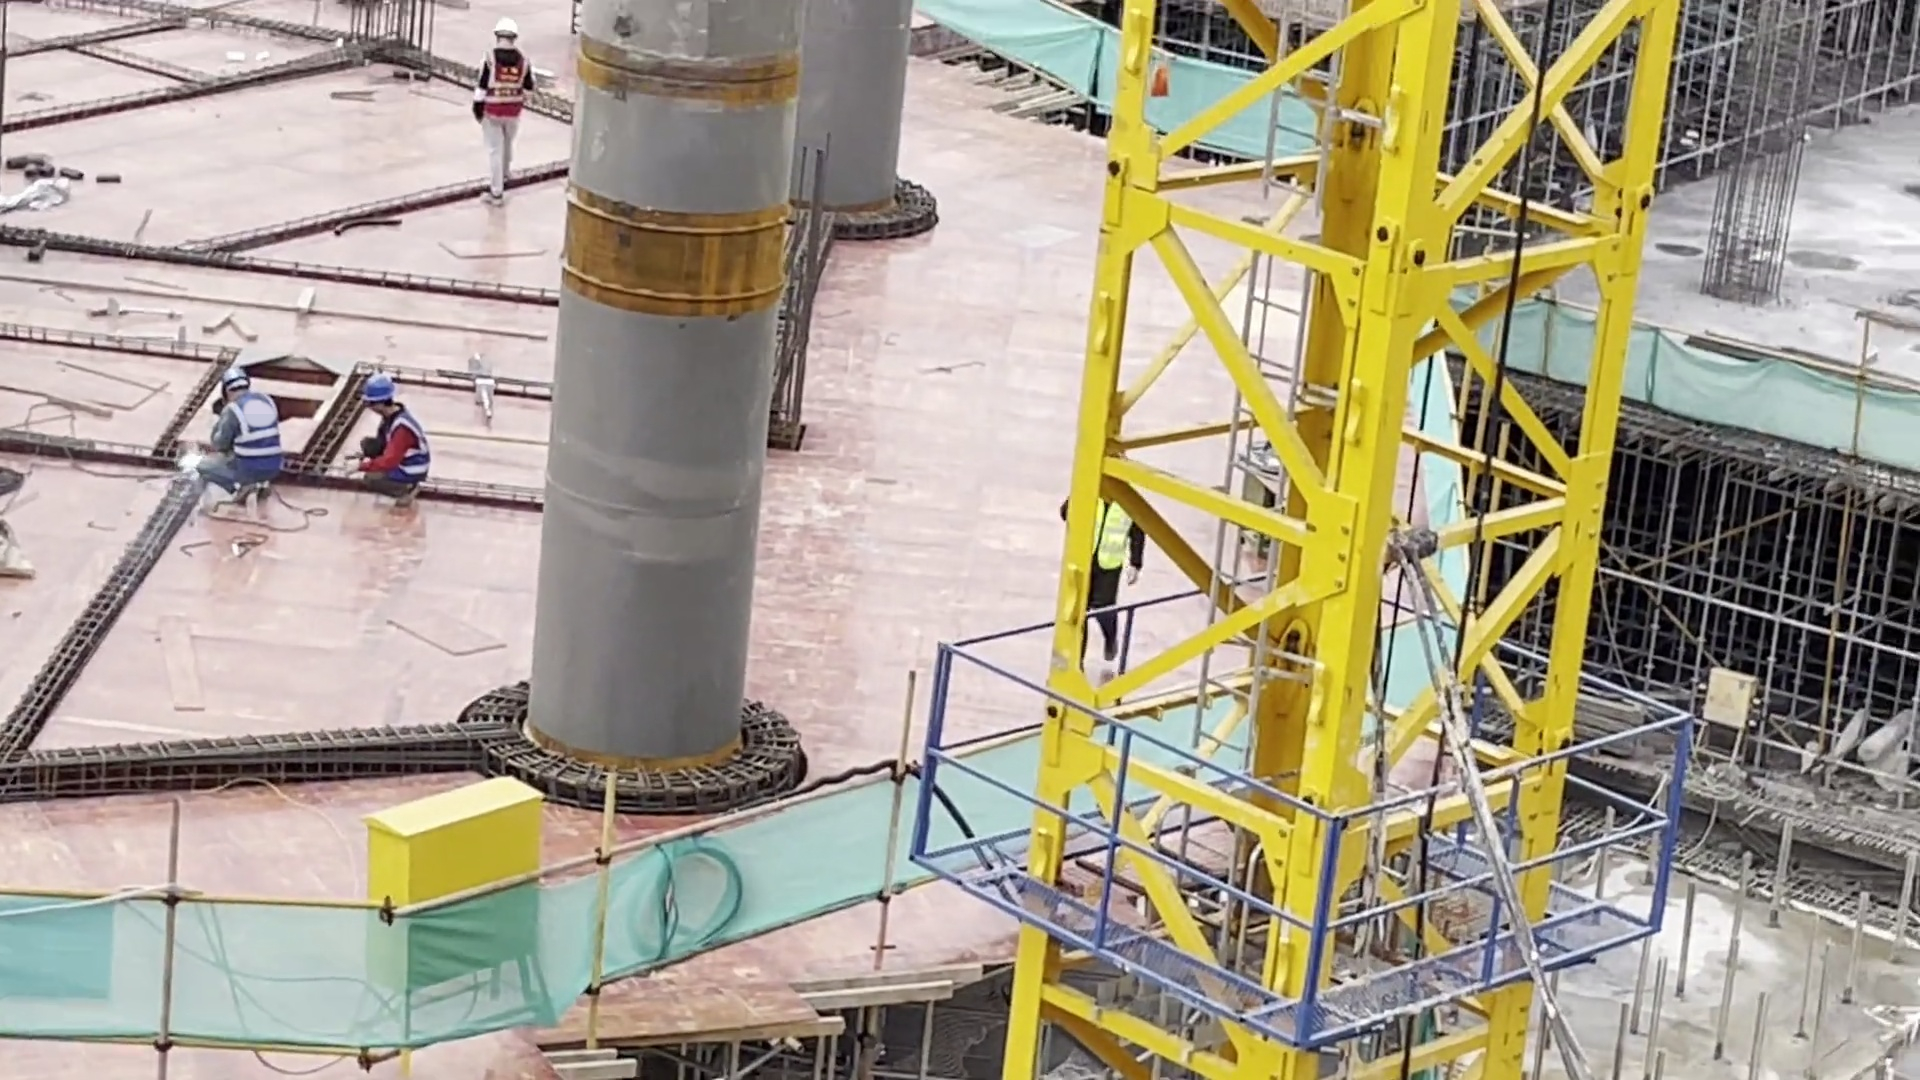helmet: (358, 373, 397, 403), (221, 363, 251, 392), (494, 17, 520, 38)
person: (469, 14, 535, 212), (348, 366, 433, 521), (195, 365, 280, 508), (1091, 492, 1144, 672)
vest: (225, 387, 281, 481), (478, 44, 528, 130), (376, 411, 431, 482), (1093, 498, 1140, 573)
